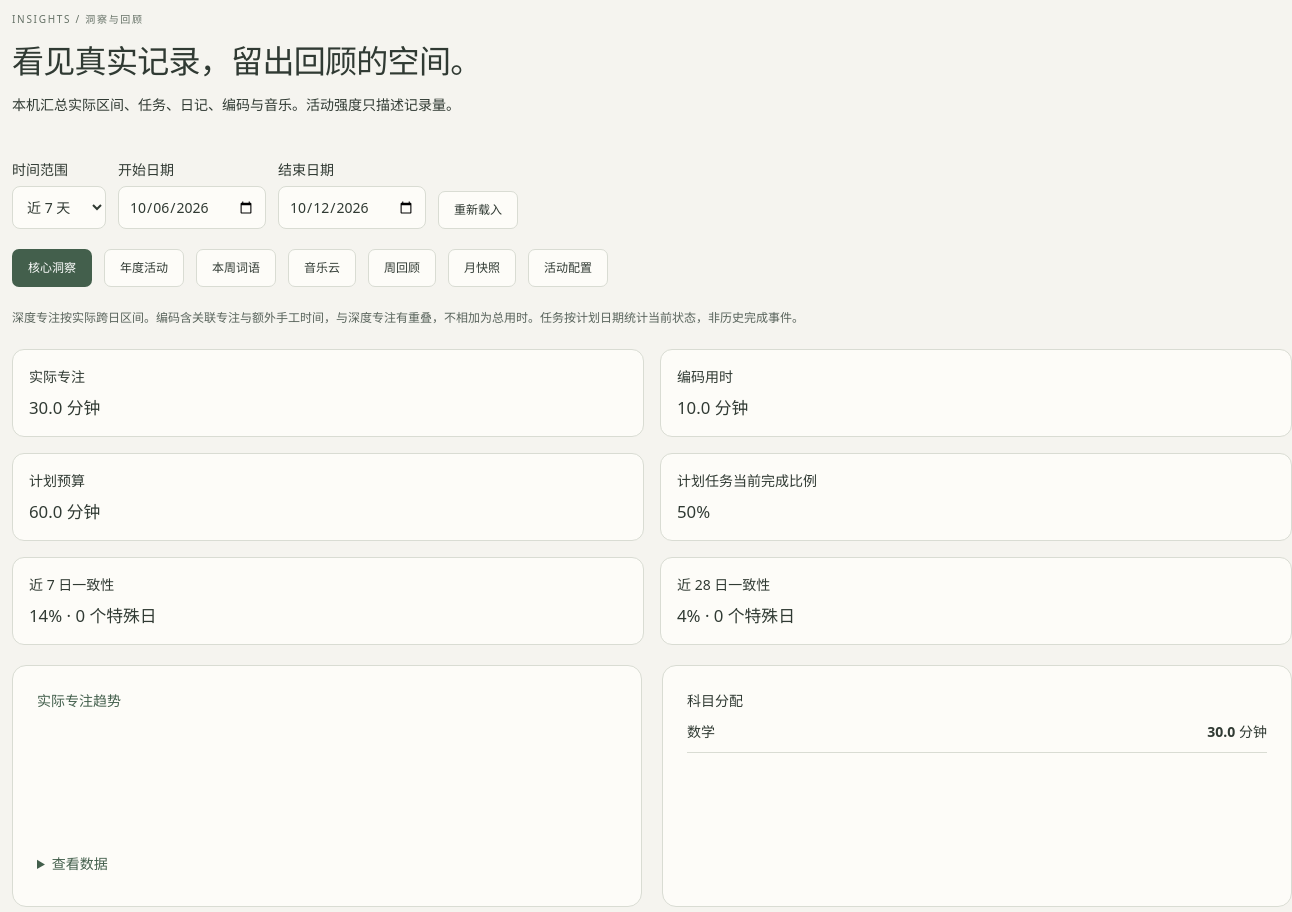
Test: Words link to exact journal record and music uses separate cloud
Click the button "本周词语" at (236, 268), box [196, 249, 276, 287]
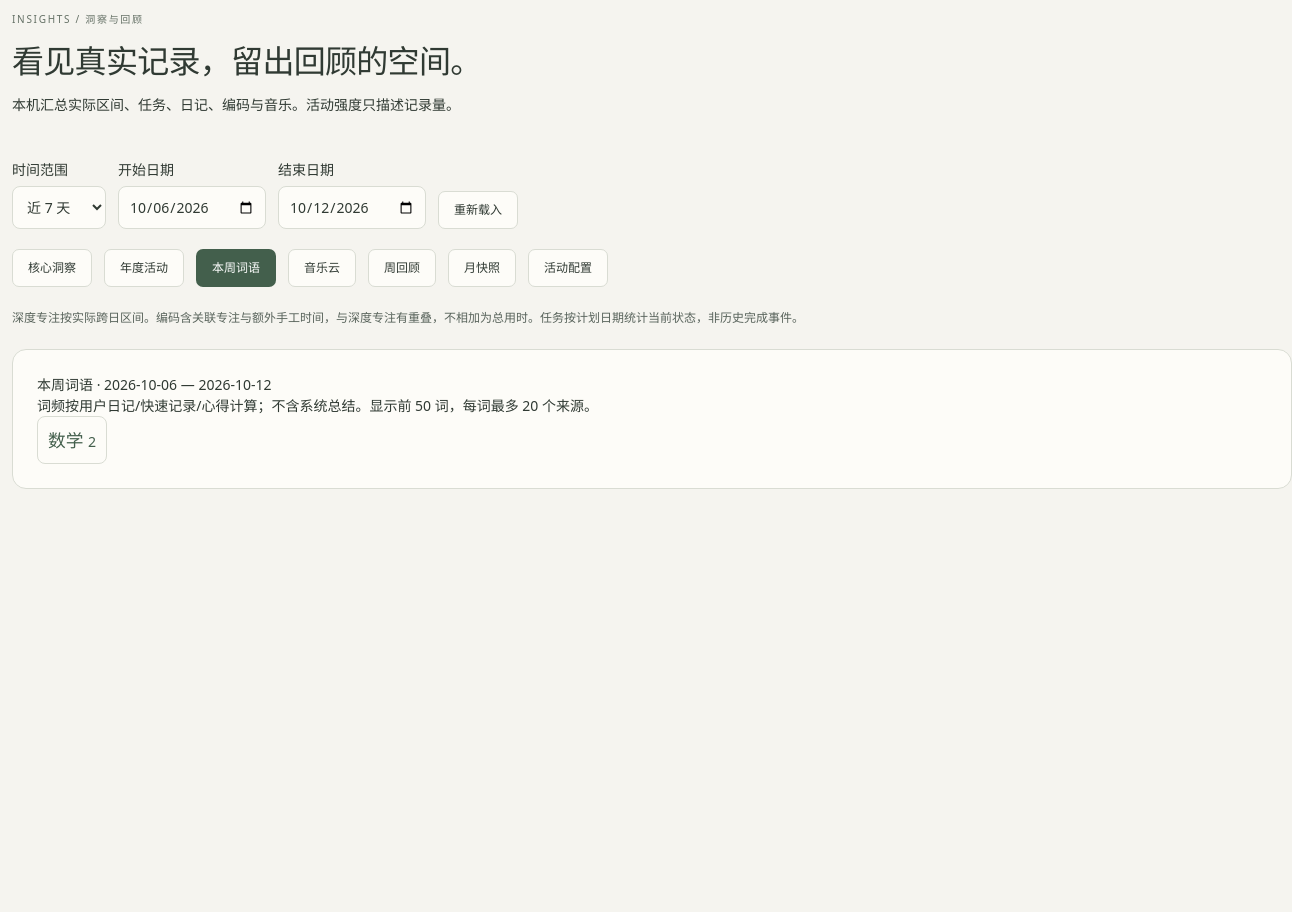
Click the button with aria-label "数学，2 次，查看来源" at (72, 440), box [37, 416, 107, 464]
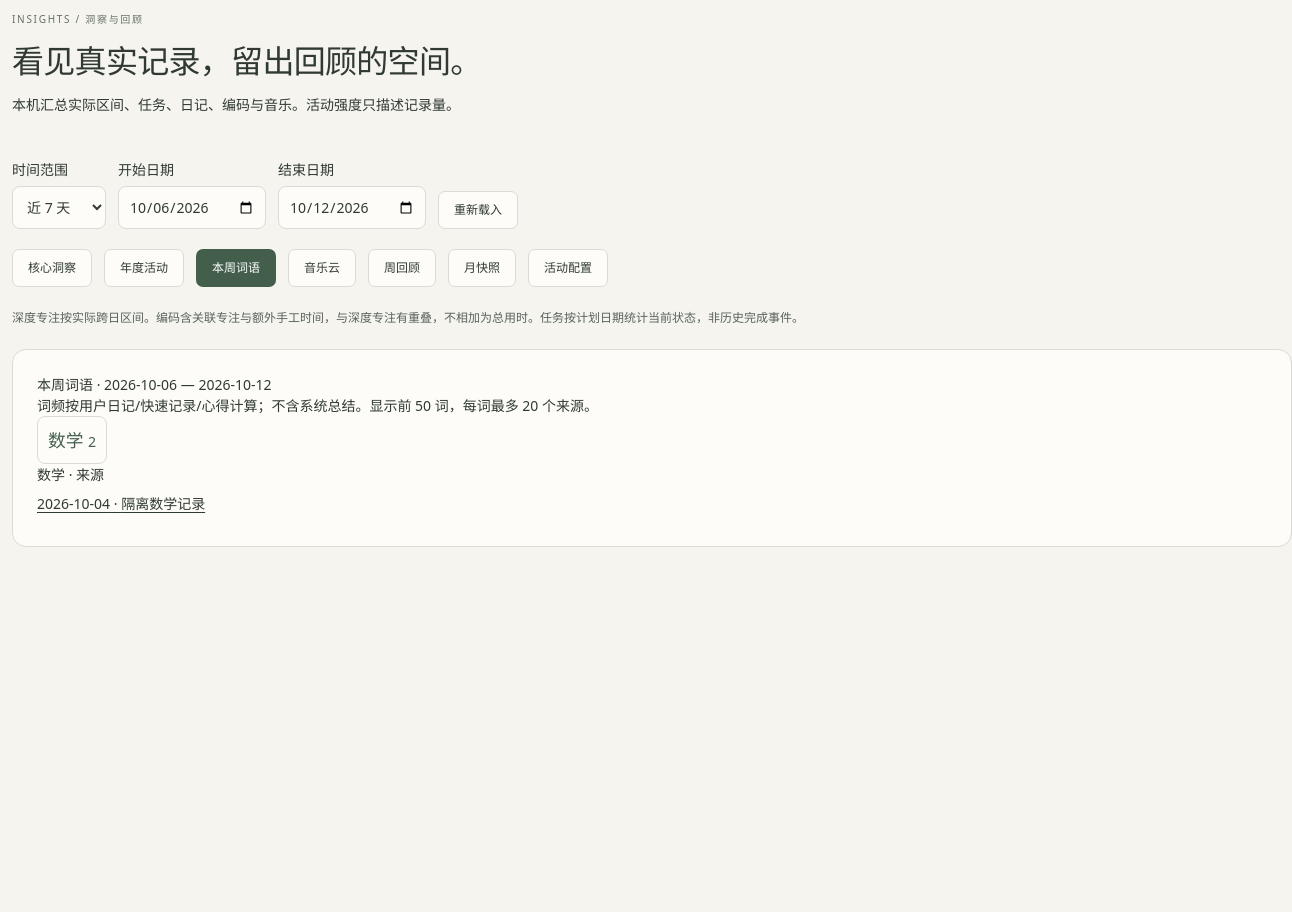
Click the button "音乐云" at (322, 268), box [288, 249, 356, 287]
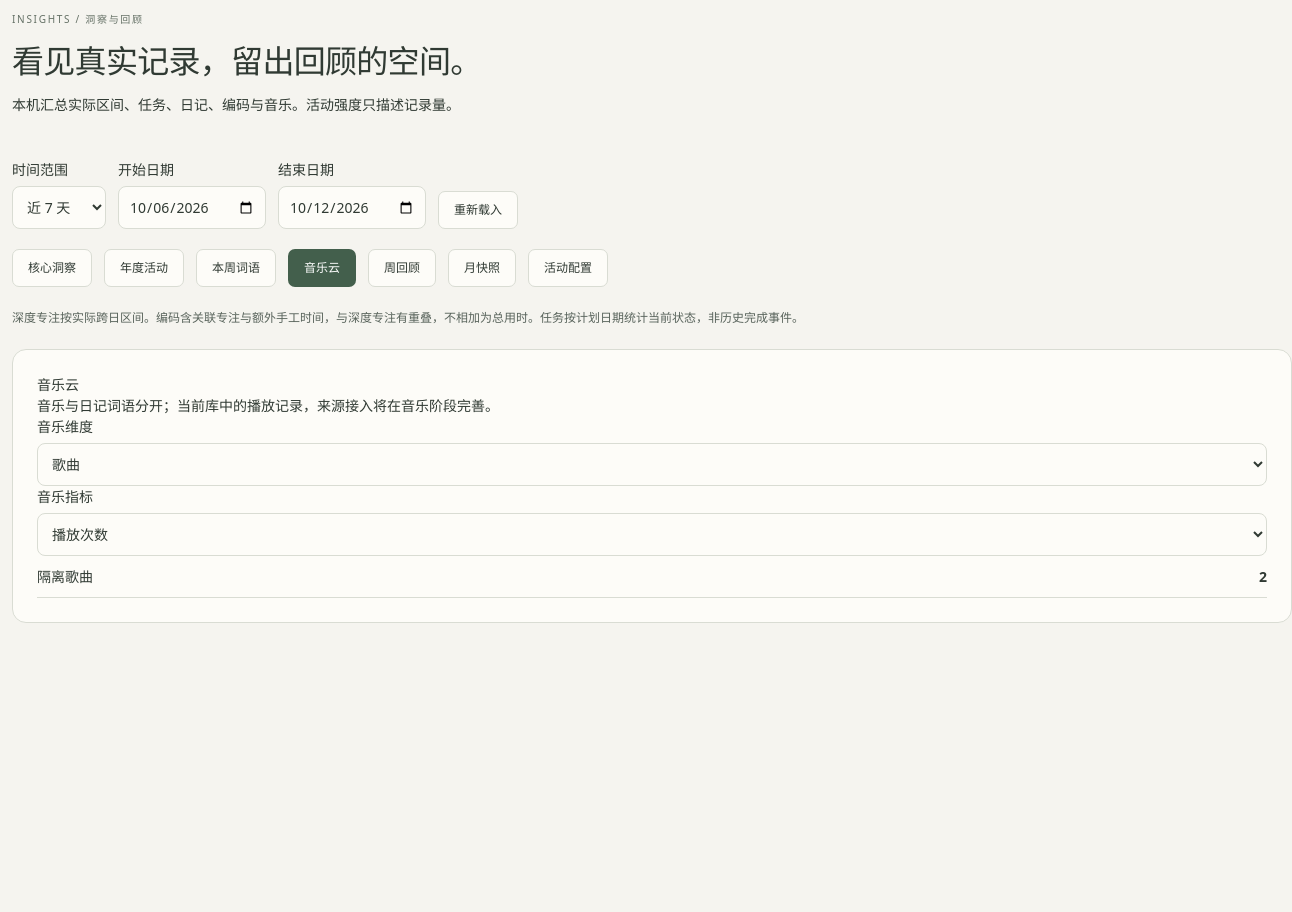
Expected: the text "隔离歌曲" is shown, [37, 566, 93, 587]
